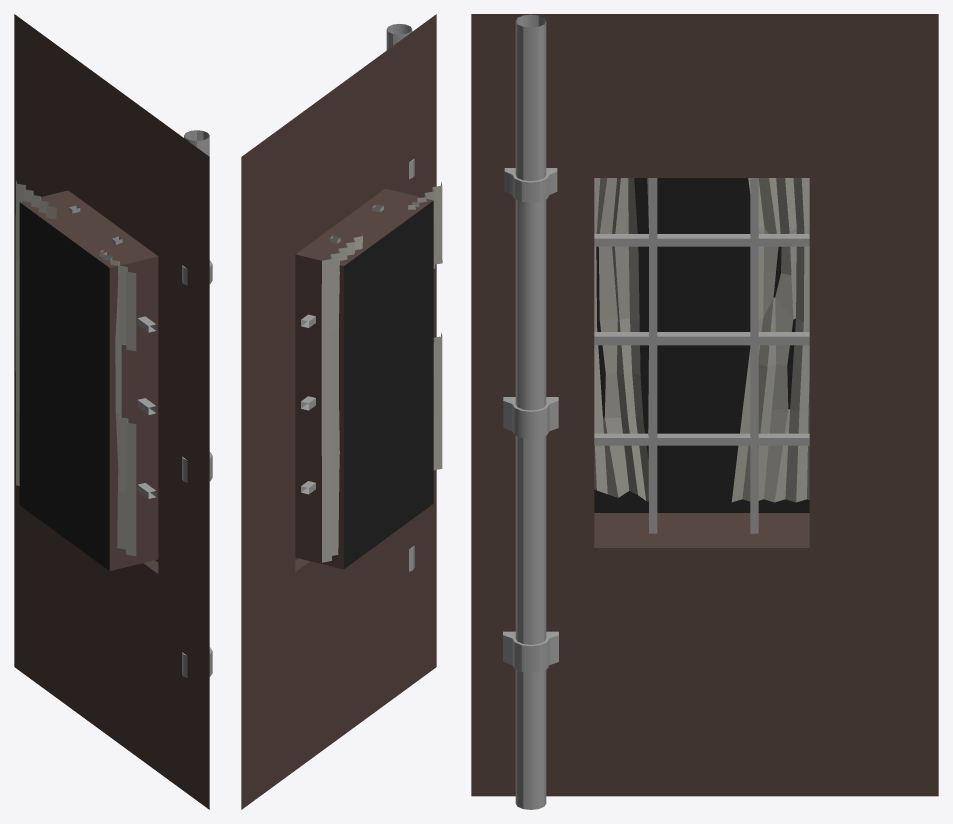
File: houseWall_4.fbx
3 views of the same model, side by side, from view 1: azimuth 30°, elevation 25°; view 2: azimuth 150°, elevation 25°; view 3: azimuth 270°, elevation 25° (orthographic). The views are drawn at different scales.
Parts seen in each view (by area): view 1: houseWall_4; view 2: houseWall_4; view 3: houseWall_4.
Part boxes in pixels (x1=…): houseWall_4: x1=14, y1=14, x2=212, y2=809; houseWall_4: x1=241, y1=14, x2=442, y2=809; houseWall_4: x1=471, y1=14, x2=938, y2=809.
Bounding box in the file's own units: 57.13 × 480 × 260.
